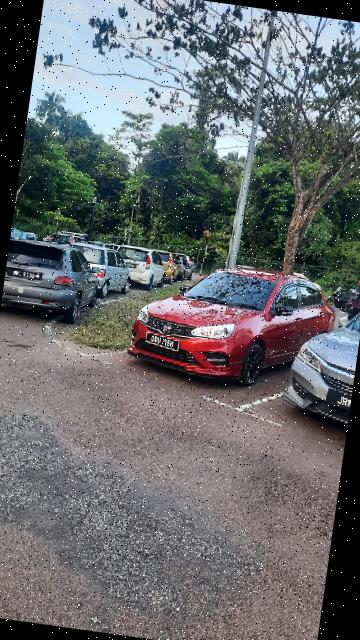License_Plate: (143, 330, 197, 356), (6, 267, 46, 283)
car: (121, 251, 344, 411), (1, 236, 114, 327)
